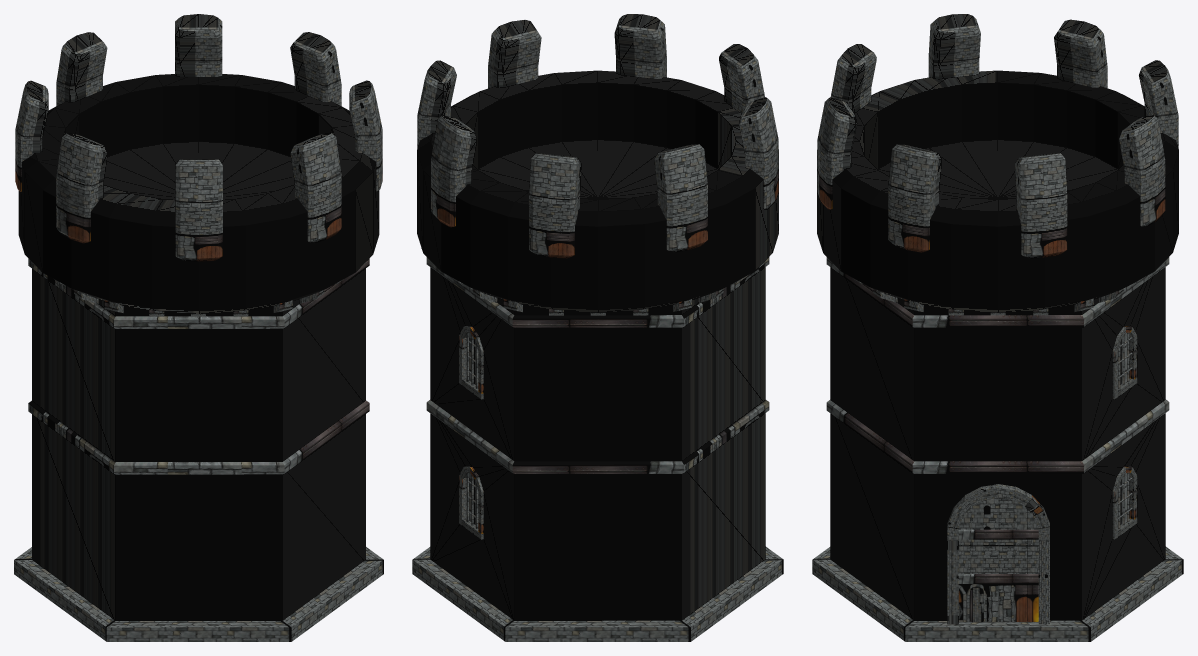
The model's file is tower2.fbx.
3 renders of one model, left to right at view 1: azimuth 30°, elevation 25°; view 2: azimuth 150°, elevation 25°; view 3: azimuth 270°, elevation 25°, orthographic.
Parts seen in each view (by area): view 1: Bas_Destek.015; view 2: Bas_Destek.015; view 3: Bas_Destek.015.
Part boxes in pixels (x1=…): Bas_Destek.015: x1=14, y1=14, x2=383, y2=641; Bas_Destek.015: x1=412, y1=14, x2=783, y2=641; Bas_Destek.015: x1=812, y1=14, x2=1183, y2=641.
Size of the model in its own units: 231 by 344 by 237.
Materials: 1 (1 with a texture image).
